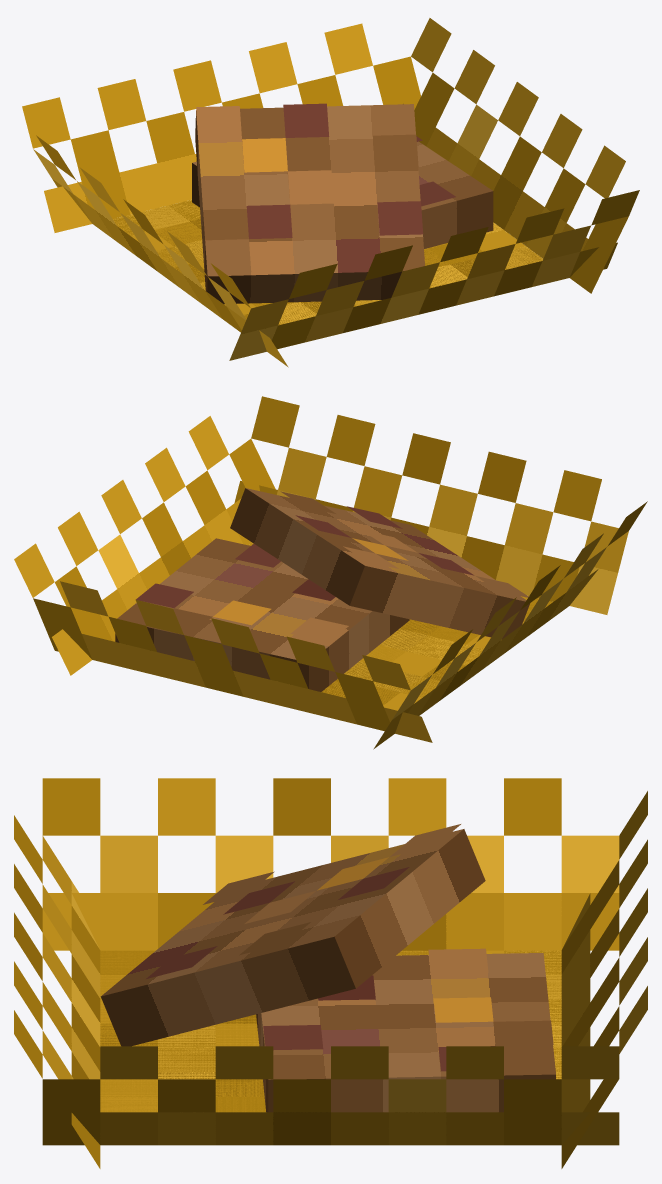
Rendered from pumpkin_cookie.obj.
3 views of the same model, one above another, from view 1: azimuth 30°, elevation 25°; view 2: azimuth 150°, elevation 25°; view 3: azimuth 270°, elevation 25° (orthographic). The views are drawn at different scales.
Parts seen in each view (by area): view 1: cube; view 2: cube; view 3: cube.
Part boxes in pixels (x1,y1,x2,y2): cube: [22, 18, 639, 367]; cube: [14, 396, 647, 749]; cube: [14, 778, 647, 1168].
Bounding box in the file's own units: 0.6876 × 0.2039 × 0.6875.
